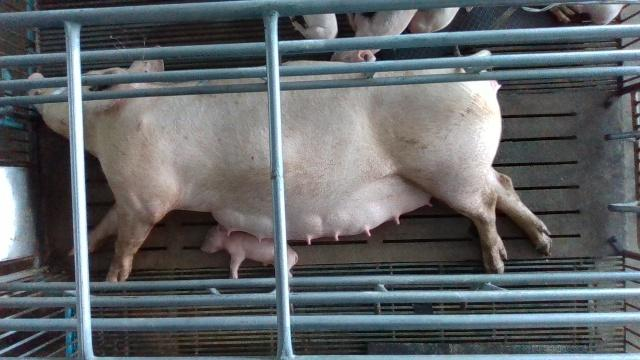piglet: (200, 223, 298, 278), (331, 8, 418, 62), (290, 14, 338, 38)
sow-sleep-lactate: (26, 51, 554, 284)
